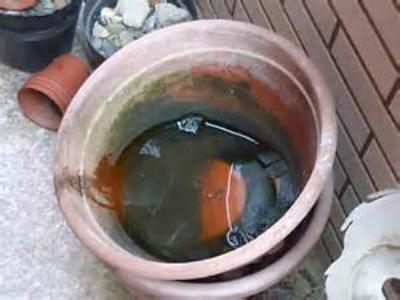bucket: (49, 17, 339, 282), (17, 51, 92, 134)
